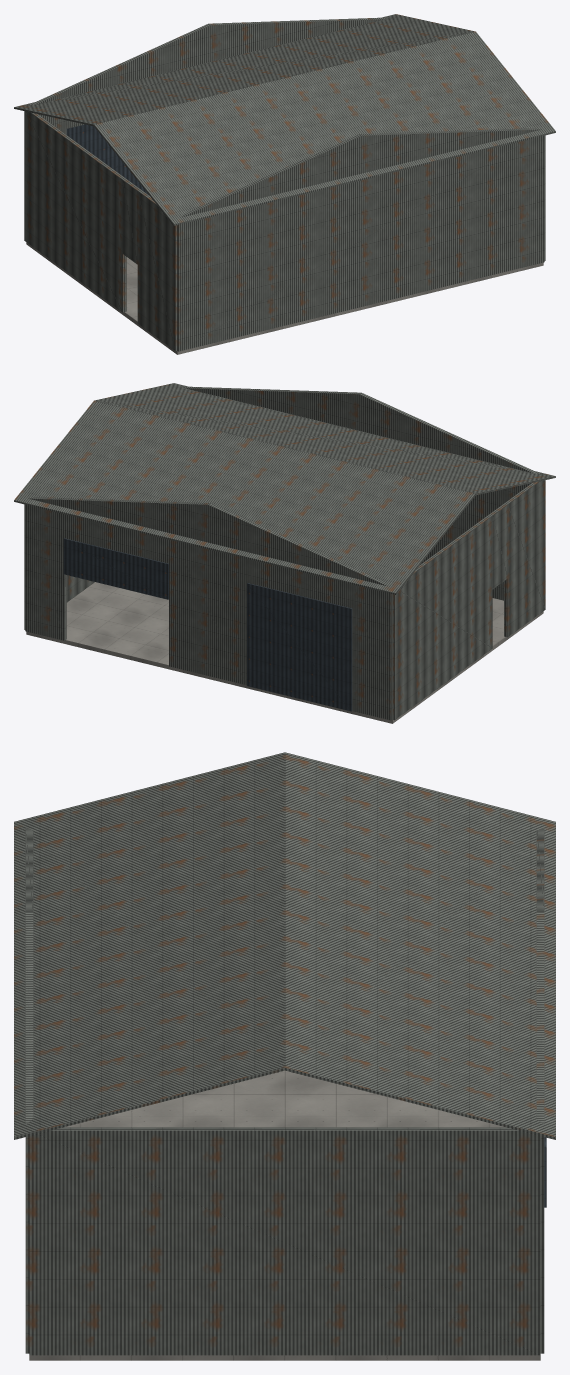
File: garage.glb
The picture shows the model from 3 angles, top to bottom: view 1: azimuth 30°, elevation 25°; view 2: azimuth 150°, elevation 25°; view 3: azimuth 270°, elevation 25°; orthographic projection. The views are drawn at different scales.
Visible parts, largest first — view 1: garage; view 2: garage; view 3: garage.
Boxes of the visible parts, <box> form: garage: <box>14,14,555,354</box>; garage: <box>14,383,555,723</box>; garage: <box>14,752,555,1360</box>.
Bounding box in the file's own units: 14.6 × 6.46 × 10.6.
Materials: 3 (3 with a texture image).
